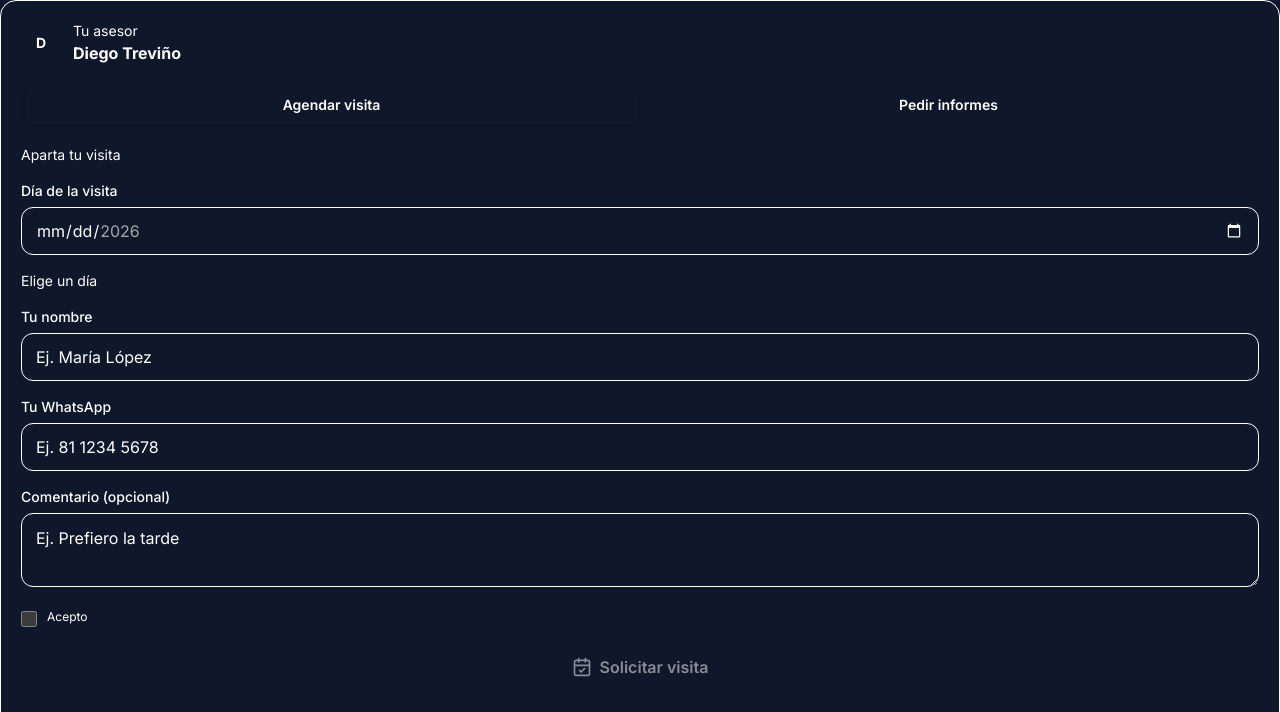
Test: ActionPanel › abre en «Agendar visita», cambia a «Pedir informes» y muestra al asesor
expect the tab "Agendar visita" is shown: met, box [25,85,638,125]
expect the date field labelled "Día de la visita" is shown: met, box [21,207,1259,255]
Click the tab "Pedir informes": x=948, y=105 [642,85,1255,125]
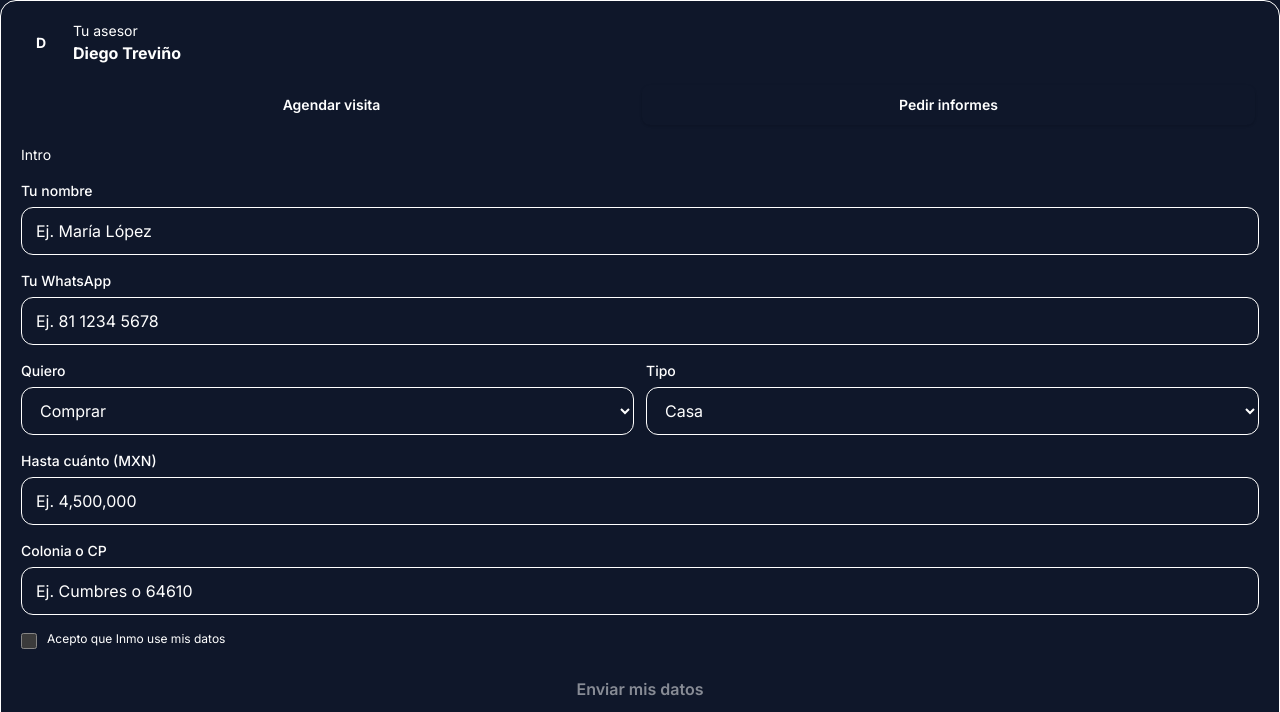
expect the field labelled "Hasta cuánto (MXN)" is shown: met, box [21,477,1259,525]
